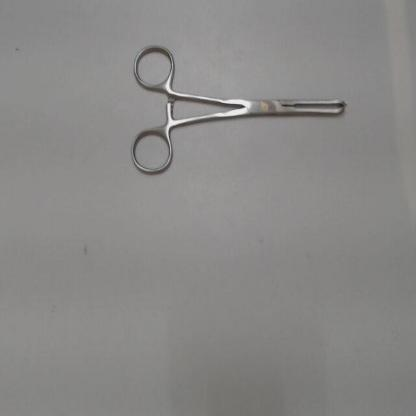Allis Tissue Forceps: (125, 37, 355, 187)
